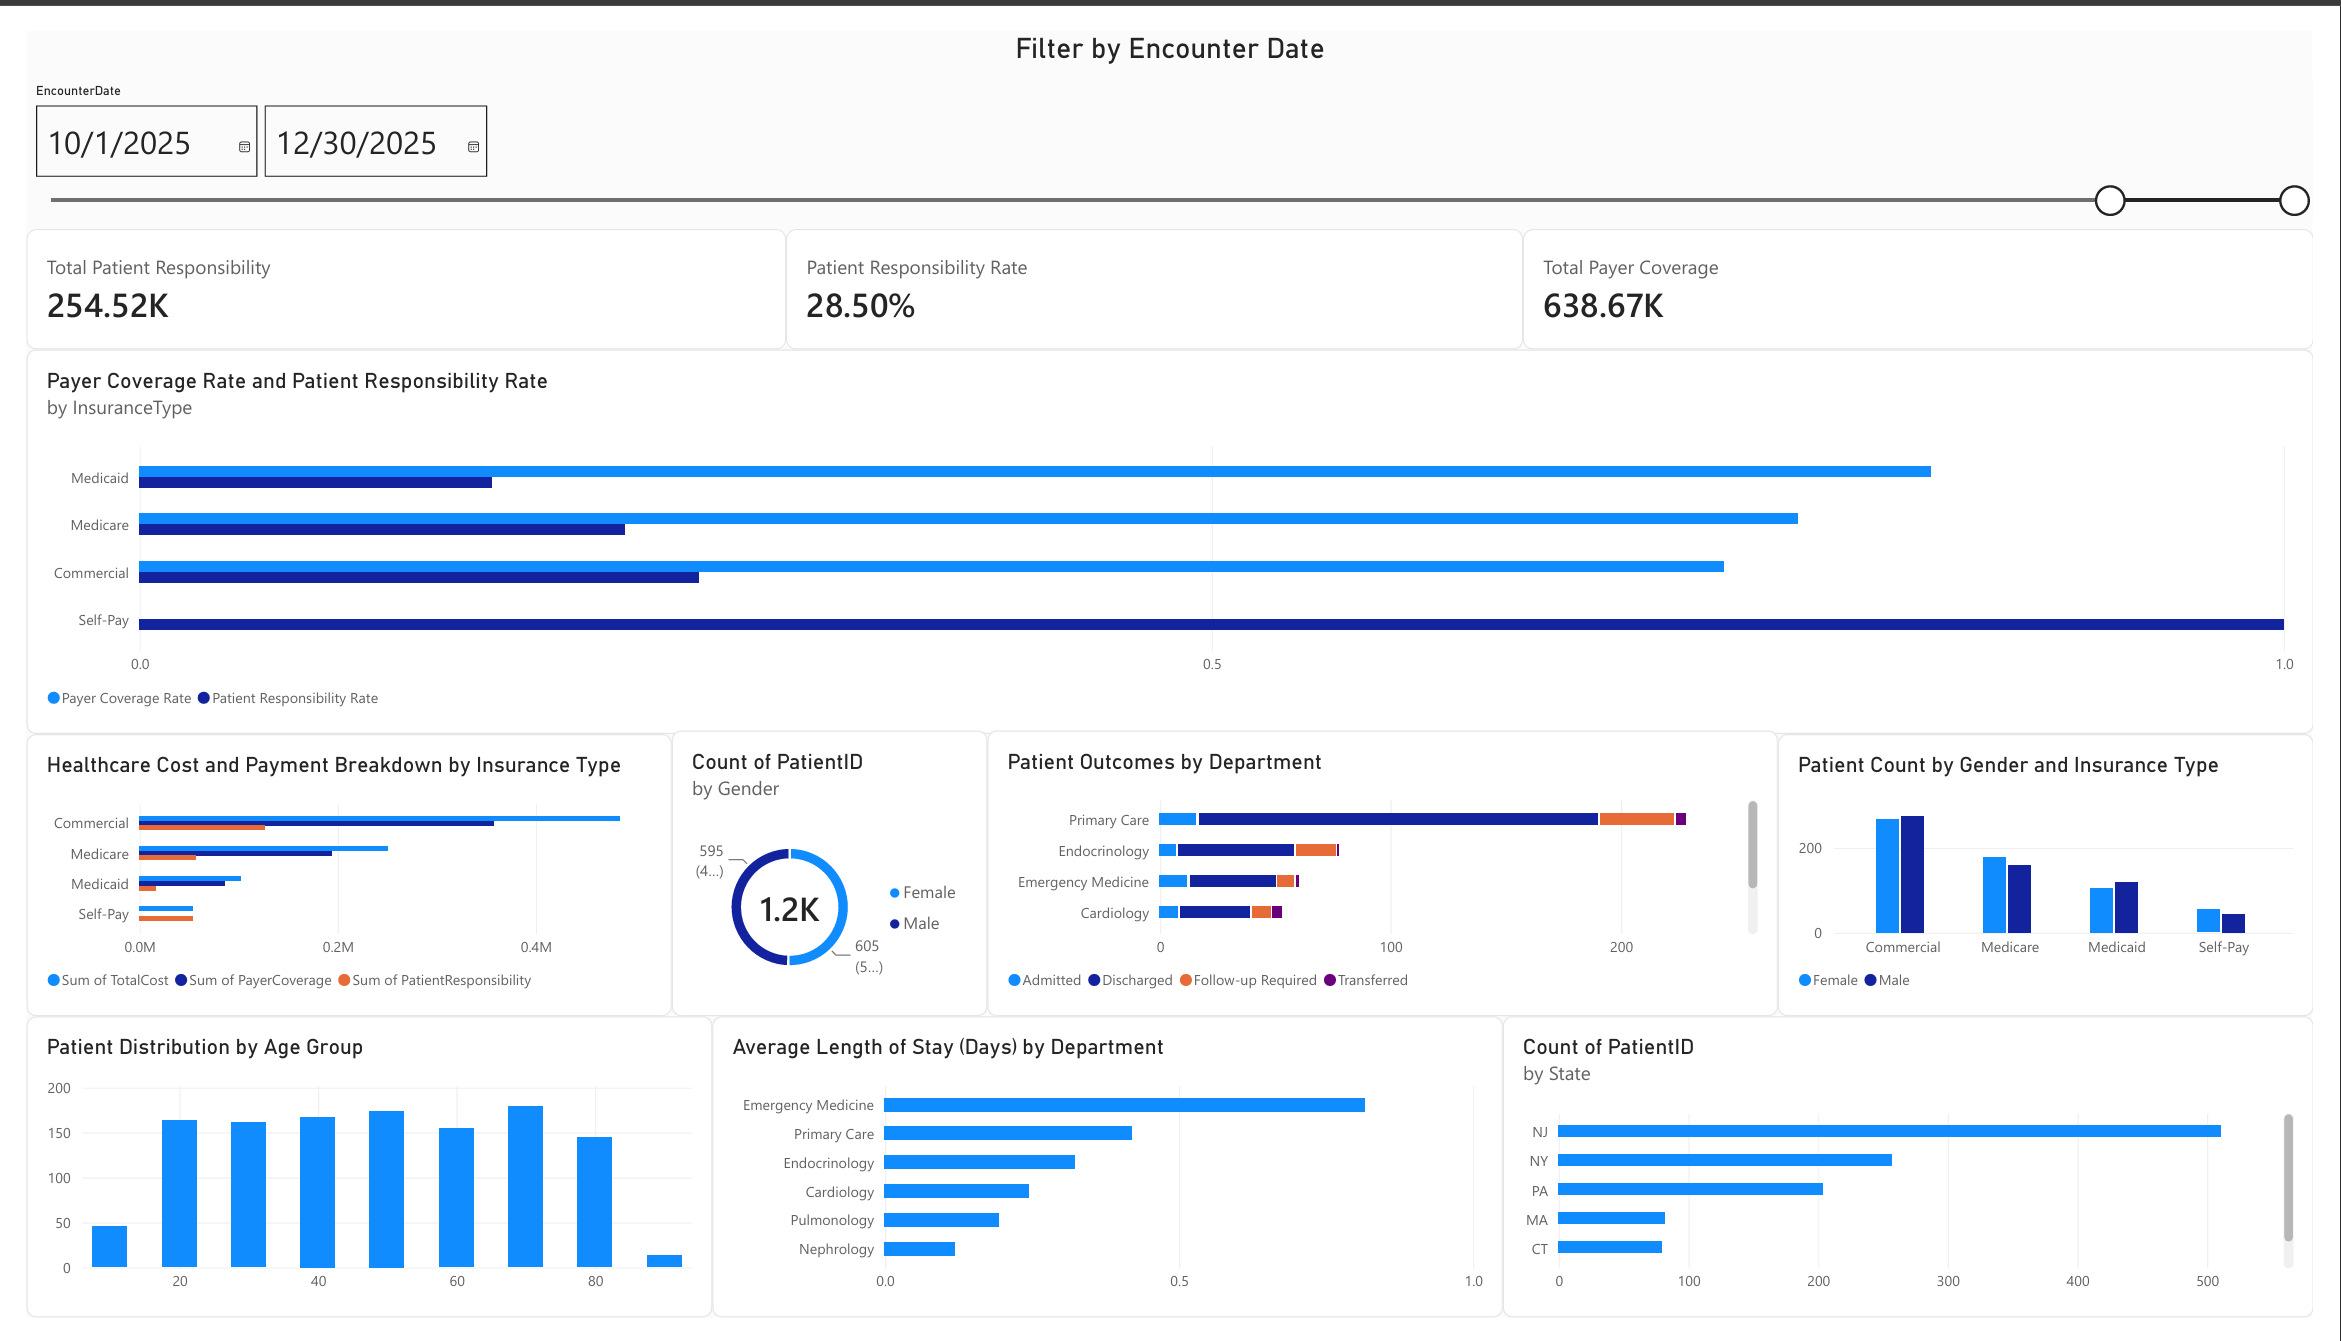

The dashboard page shown, as its layout file describes it:
{"tool":"powerbi","page":{"name":"Cost & Insurance Analysis","canvas":[1920,1080],"ordinal":1},"visuals":[{"type":"cardVisual","fields":{"Data":["Encounters.Patient Responsibility Rate"]},"box":[209.7,0,212.7,150.9],"z":1000},{"type":"clusteredBarChart","fields":{"Category":["Patients.InsuranceType"],"Y":["Encounters.Payer Coverage Rate","Encounters.Patient Responsibility Rate"]},"box":[0,464.7,687.9,615.5],"z":2000},{"type":"slicer","title":"Filter by Encounter Date","fields":{"Values":["Encounters.EncounterDate"]},"box":[1528.3,0,392.3,187.1],"z":3000},{"type":"cardVisual","fields":{"Data":["Encounters.Total Payer Coverage"]},"box":[422.4,0,230.8,150.9],"z":3001},{"type":"cardVisual","fields":{"Data":["Encounters.Total Patient Responsibility"]},"box":[0,0,209.7,155.4],"z":3002},{"type":"clusteredBarChart","title":"Healthcare Cost and Payment Breakdown by Insurance Type","fields":{"Category":["Patients.InsuranceType"],"Y":["Sum(Encounters.TotalCost)","Sum(Encounters.PayerCoverage)","Sum(Encounters.PatientResponsibility)"]},"box":[1273.3,464.7,647.2,615.5],"z":3003},{"type":"donutChart","fields":{"Category":["Patients.Gender"],"Y":["CountNonNull(Patients.PatientID)"]},"box":[1200.9,270,327.4,196.1],"z":3004},{"type":"clusteredColumnChart","title":"Patient Count by Gender and Insurance Type","fields":{"Category":["Patients.InsuranceType"],"Series":["Patients.Gender"],"Y":["Count(Patients.PatientID)"]},"box":[1086.2,0,442,202.2],"z":3005},{"type":"clusteredBarChart","title":"Average Length of Stay (Days) by Department","fields":{"Category":["Encounters.Department"],"Y":["Avg(Encounters.LengthOfStayDays)"]},"box":[687.9,464.7,585.4,615.5],"z":3006},{"type":"barChart","title":"Patient Outcomes by Department","fields":{"Category":["Encounters.Department"],"Series":["Encounters.Outcome"],"Y":["Count(Encounters.EncounterID)"]},"box":[0,155.4,687.9,309.3],"z":3007},{"type":"clusteredColumnChart","title":"Patient Distribution by Age Group","fields":{"Category":["Patients.Age (bins)"],"Y":["Count(Patients.PatientID)"]},"box":[1528.3,175,392.3,289.7],"z":3008},{"type":"clusteredBarChart","fields":{"Category":["Patients.State"],"Y":["Count(Patients.PatientID)"]},"box":[687.9,0,442,339.4],"z":3009}]}

Visuals, with their boxes in screenshot pixels (x1, y1, x2, y2), scaled from the page's 1920x1080 canvas onto the 2341x1341 screenshot:
cardVisual - Encounters.Patient Responsibility Rate: BBox(256, 0, 515, 187)
clusteredBarChart - Patients.InsuranceType x Encounters.Payer Coverage Rate: BBox(0, 577, 839, 1340)
"Filter by Encounter Date" slicer: BBox(1863, 0, 2340, 232)
cardVisual - Encounters.Total Payer Coverage: BBox(515, 0, 796, 187)
cardVisual - Encounters.Total Patient Responsibility: BBox(0, 0, 256, 193)
"Healthcare Cost and Payment Breakdown by Insurance Type" clusteredBarChart: BBox(1552, 577, 2340, 1340)
donutChart - Patients.Gender x CountNonNull(Patients.PatientID): BBox(1464, 335, 1863, 579)
"Patient Count by Gender and Insurance Type" clusteredColumnChart: BBox(1324, 0, 1863, 251)
"Average Length of Stay (Days) by Department" clusteredBarChart: BBox(839, 577, 1552, 1340)
"Patient Outcomes by Department" barChart: BBox(0, 193, 839, 577)
"Patient Distribution by Age Group" clusteredColumnChart: BBox(1863, 217, 2340, 577)
clusteredBarChart - Patients.State x Count(Patients.PatientID): BBox(839, 0, 1378, 421)
